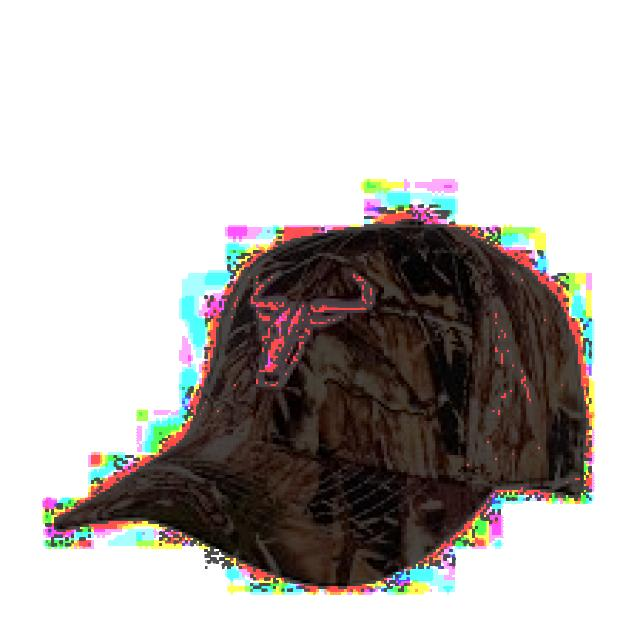TOPI: (43, 205, 583, 586)
